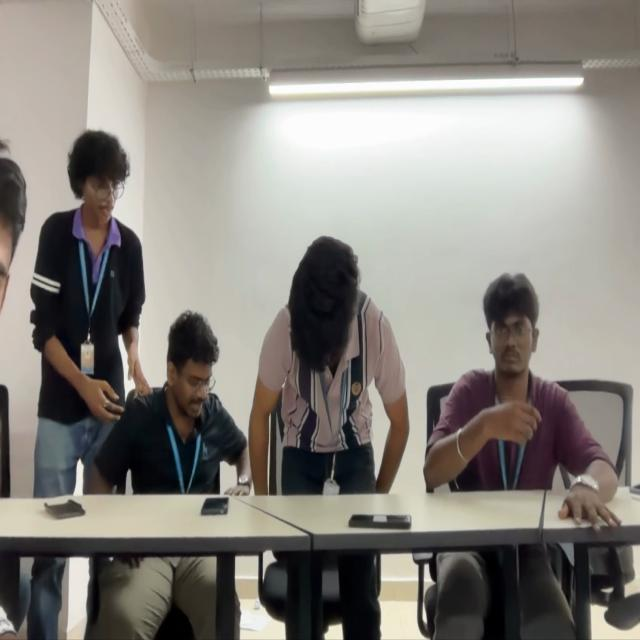Isolated: (423, 250, 614, 529)
socializing: (0, 112, 408, 494)
